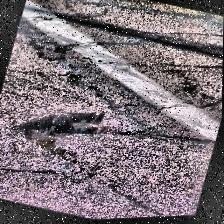pothole: (11, 91, 113, 170)
